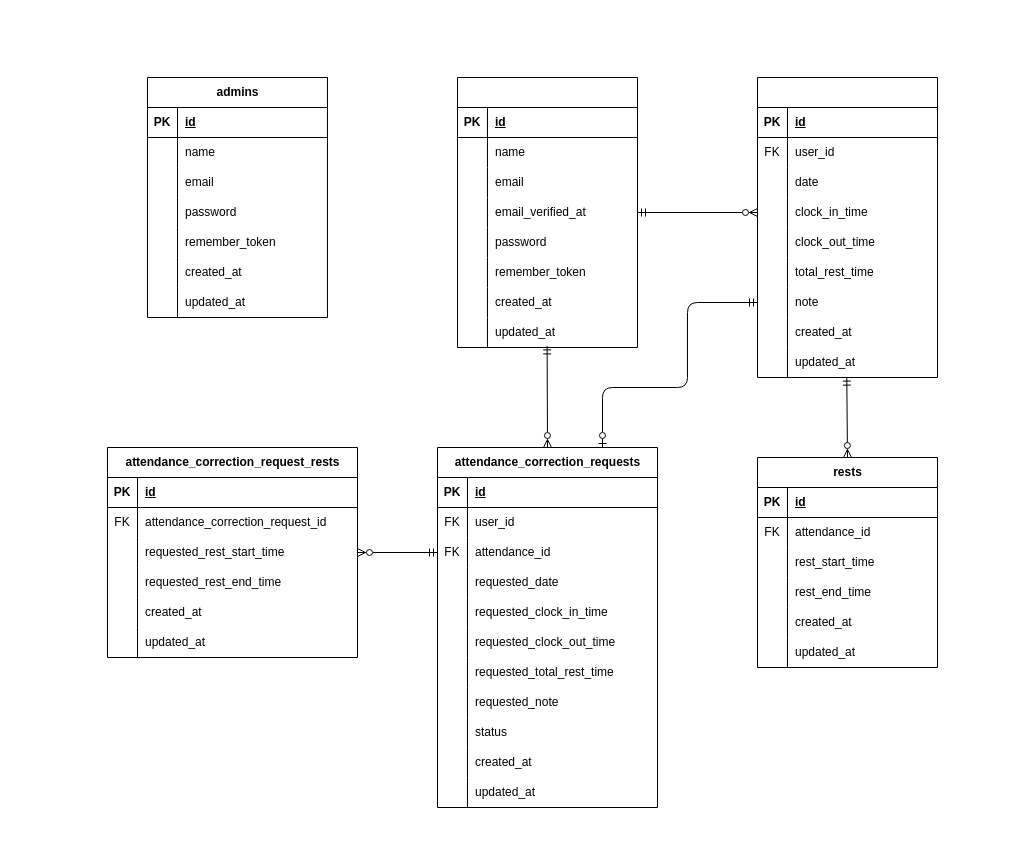
The diagram is 1024 pixels wide and 864 high, and some of its shapes have lost their labels. The shapes that lost their labels are listed below. From the top down, each one's box as (x1, y1, x2, y2) in pixels, then its label:
(456, 76, 638, 348): users
(756, 76, 938, 378): attendances
